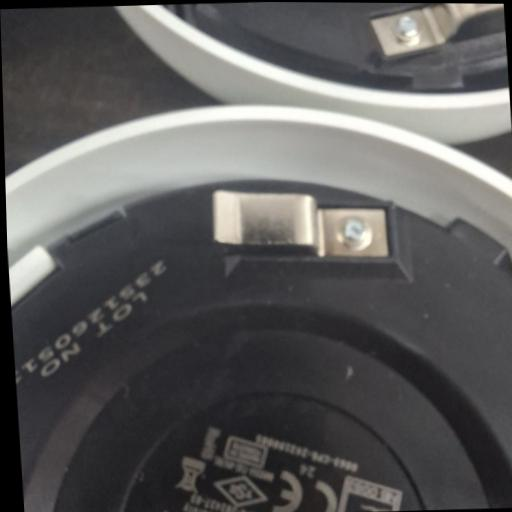yaysiz: (209, 182, 395, 264)
